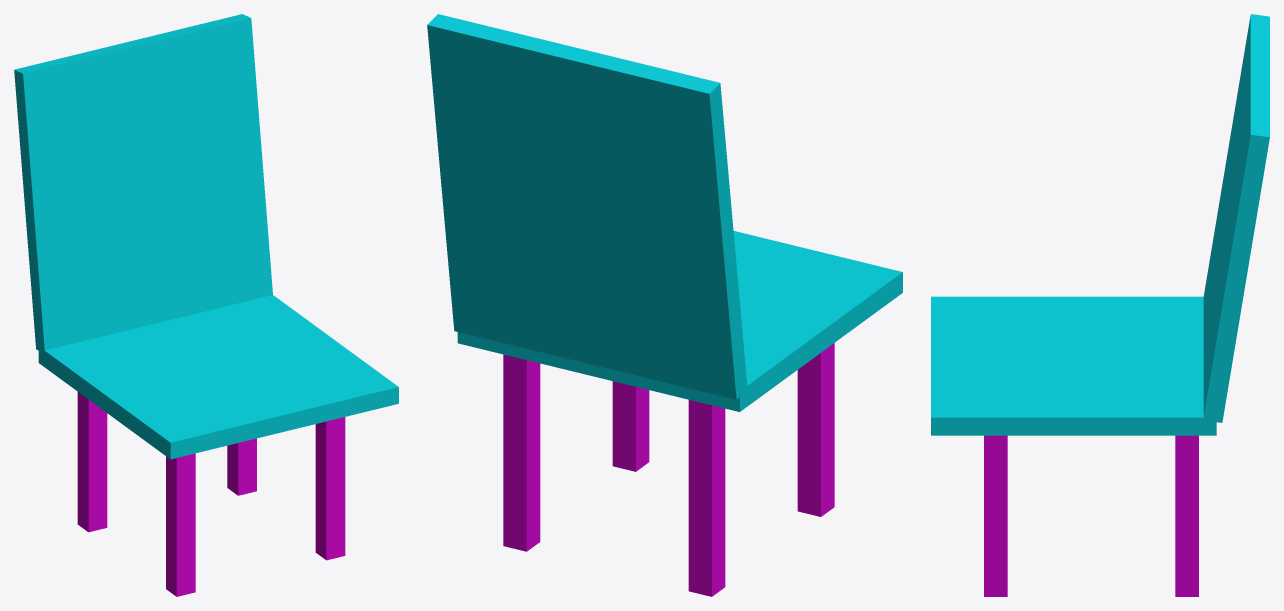
File: Sedia.fbx
3 views of the same model, side by side, from view 1: azimuth 30°, elevation 25°; view 2: azimuth 150°, elevation 25°; view 3: azimuth 270°, elevation 25° (orthographic). The views are drawn at different scales.
Visible parts, largest first — view 1: sedia; view 2: sedia; view 3: sedia.
Part boxes in pixels (<box>): sedia: <box>14,14,398,596</box>; sedia: <box>427,14,902,596</box>; sedia: <box>931,14,1269,596</box>.
Size of the model in its own units: 32.31 by 59.59 by 38.33.
